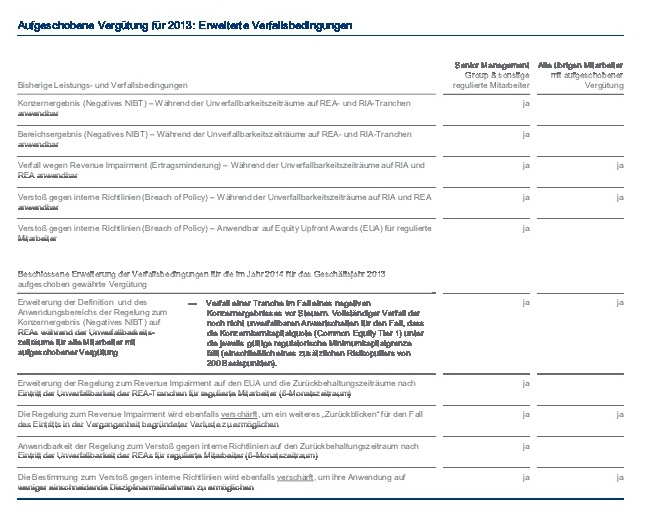table: (0, 0, 649, 522)
